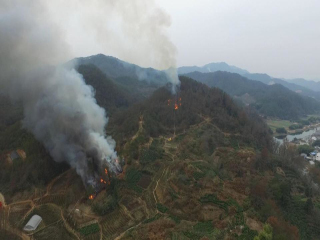smoke: (1, 1, 185, 184)
